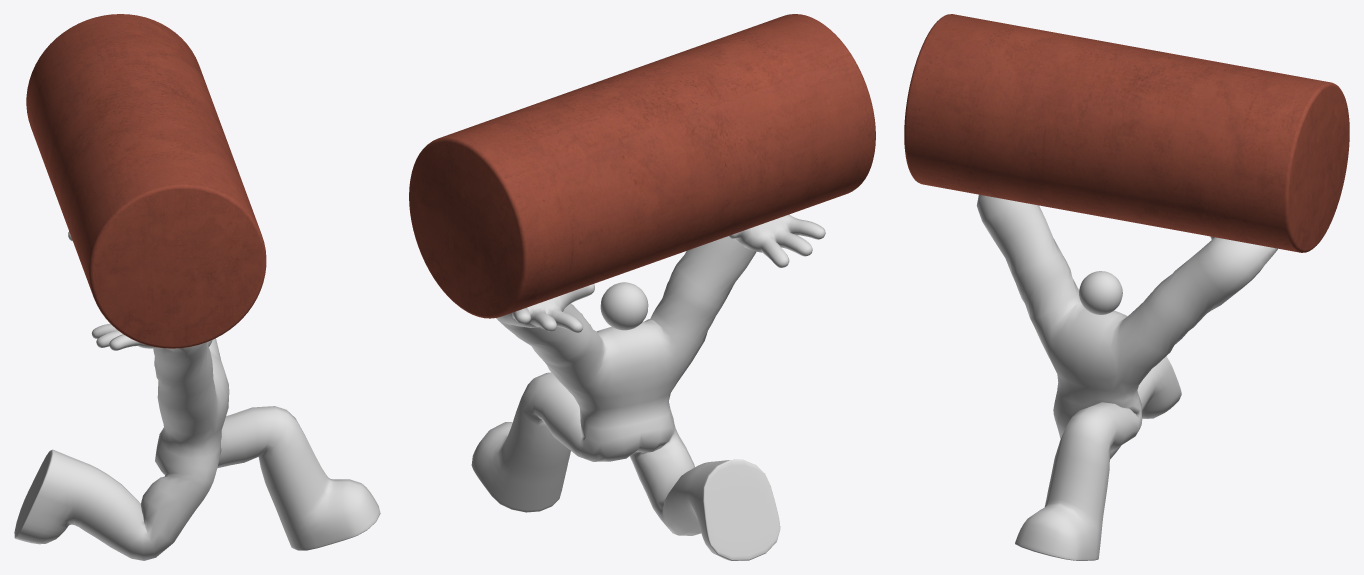
The model's file is kv2-man1.gltf.
The picture shows the model from 3 angles, left to right: view 1: azimuth 30°, elevation 25°; view 2: azimuth 150°, elevation 25°; view 3: azimuth 270°, elevation 25°; orthographic projection. The views are drawn at different scales.
Parts seen in each view (by area): view 1: Cylinder, Pose_1; view 2: Cylinder, Pose_1; view 3: Cylinder, Pose_1.
Boxes of the visible parts, left/top/right/bottom form: Cylinder: left=26, top=14, right=266, bottom=348; Pose_1: left=14, top=231, right=380, bottom=560; Cylinder: left=409, top=14, right=875, bottom=318; Pose_1: left=471, top=214, right=825, bottom=560; Cylinder: left=904, top=14, right=1349, bottom=252; Pose_1: left=976, top=194, right=1277, bottom=560.
Size of the model in its own units: 33.5 by 44.16 by 40.3.
2 materials, 2 textured.
